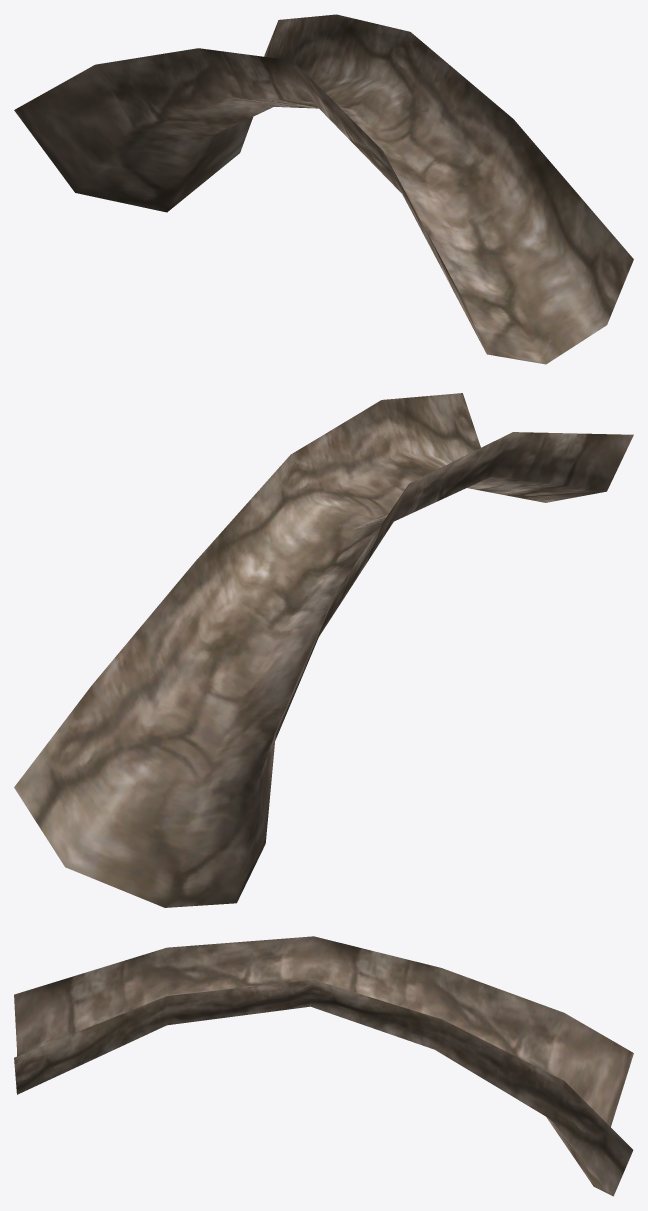
File: EKH_CAVERNS_PS_CA_PLAT54547438.fbx
The picture shows the model from 3 angles, top to bottom: view 1: azimuth 30°, elevation 25°; view 2: azimuth 150°, elevation 25°; view 3: azimuth 270°, elevation 25°; orthographic projection. The views are drawn at different scales.
Parts seen in each view (by area): view 1: EKH_CAVERNS_PS_CA_PLAT54547438; view 2: EKH_CAVERNS_PS_CA_PLAT54547438; view 3: EKH_CAVERNS_PS_CA_PLAT54547438.
Boxes of the visible parts, <box> form: EKH_CAVERNS_PS_CA_PLAT54547438: <box>14,14,633,364</box>; EKH_CAVERNS_PS_CA_PLAT54547438: <box>14,393,633,907</box>; EKH_CAVERNS_PS_CA_PLAT54547438: <box>14,936,633,1196</box>.
Size of the model in its own units: 15069 by 17308 by 42511.
1 material, 1 textured.
